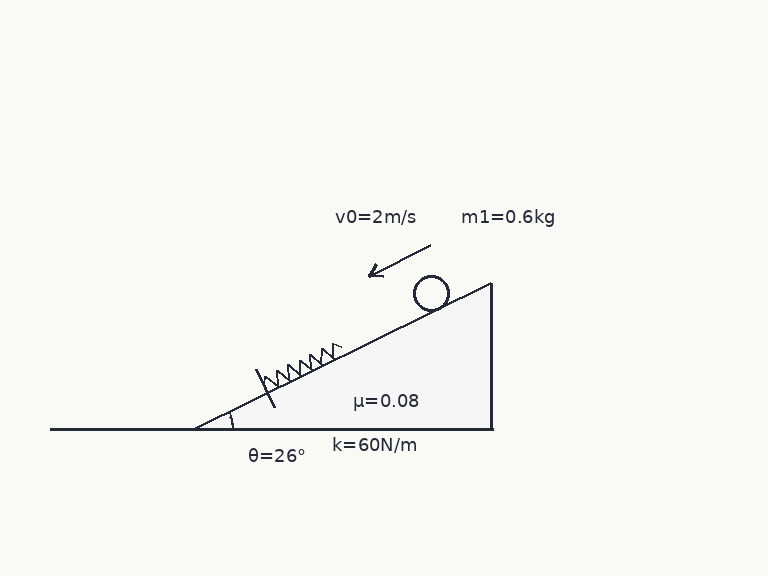ball: (411, 273, 451, 313)
ramp: (191, 281, 493, 431)
spring: (262, 341, 343, 387)
